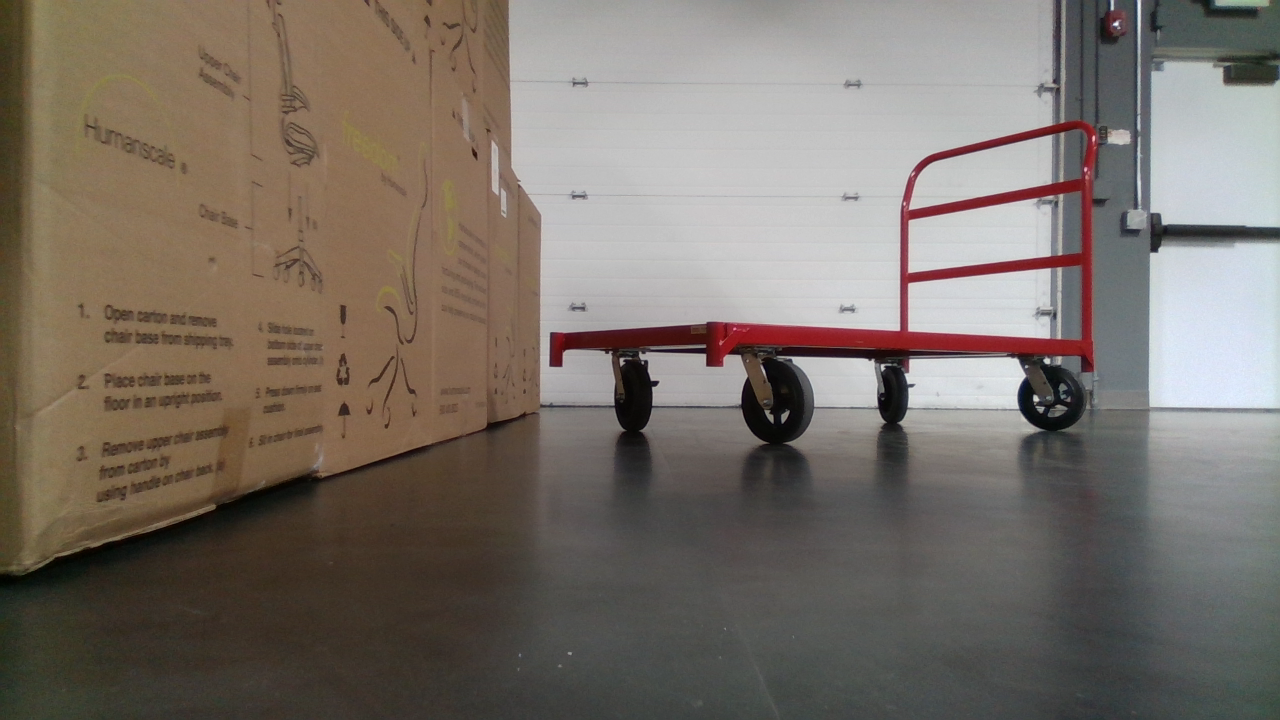Dolly: (536, 109, 1111, 446)
Wheel: (734, 348, 818, 446), (1013, 357, 1089, 431), (606, 351, 660, 436), (869, 361, 916, 428)
